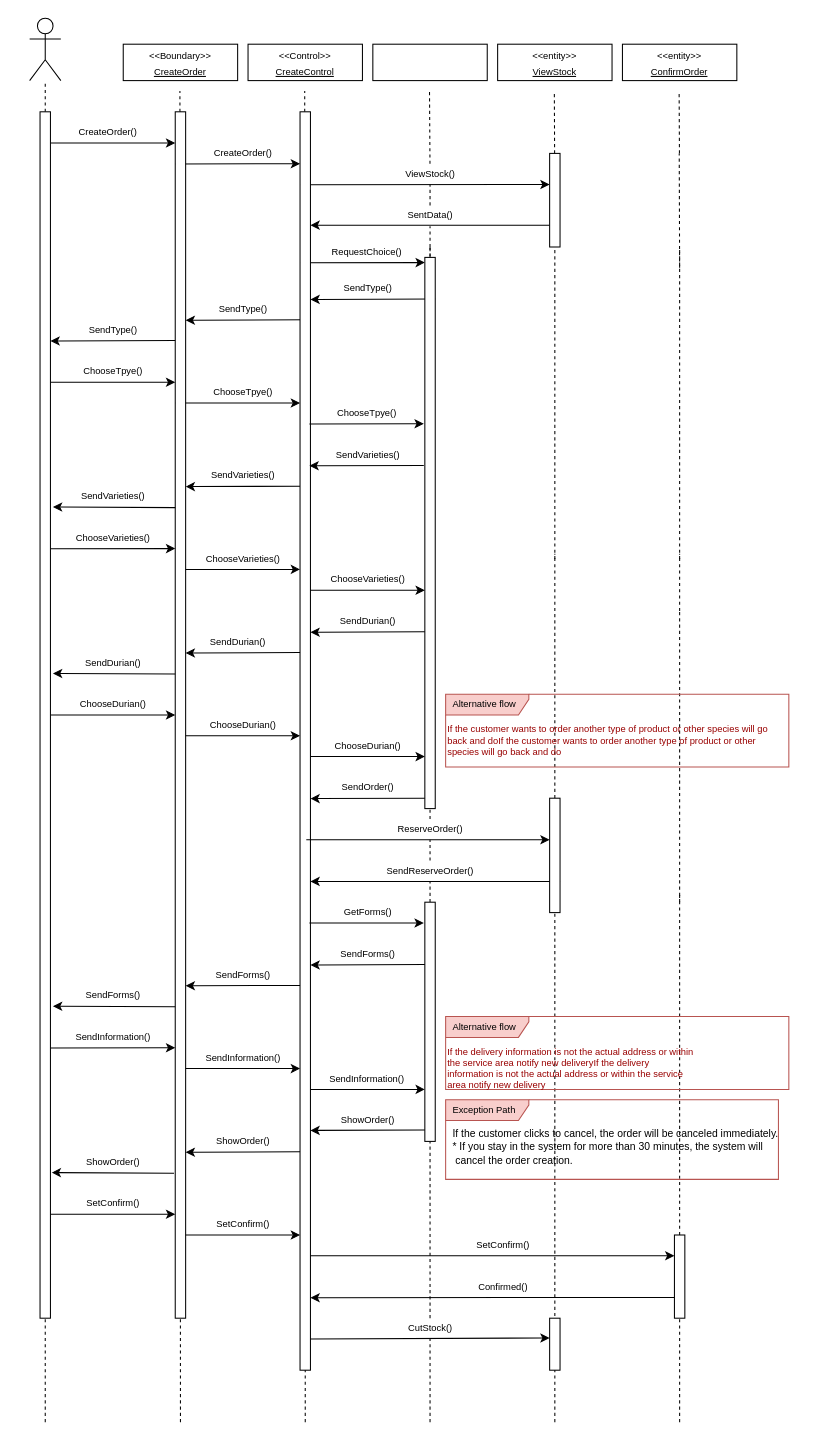
This 823x1441 diagram has some shape labels left out. Here are the shapes that lost their labels. From the top down, the centre of each, then its label:
(x=45, y=49): Customer
(x=429, y=62): <<entity>> Chatbot
